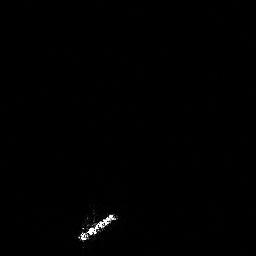ship: (73, 207, 120, 250)
